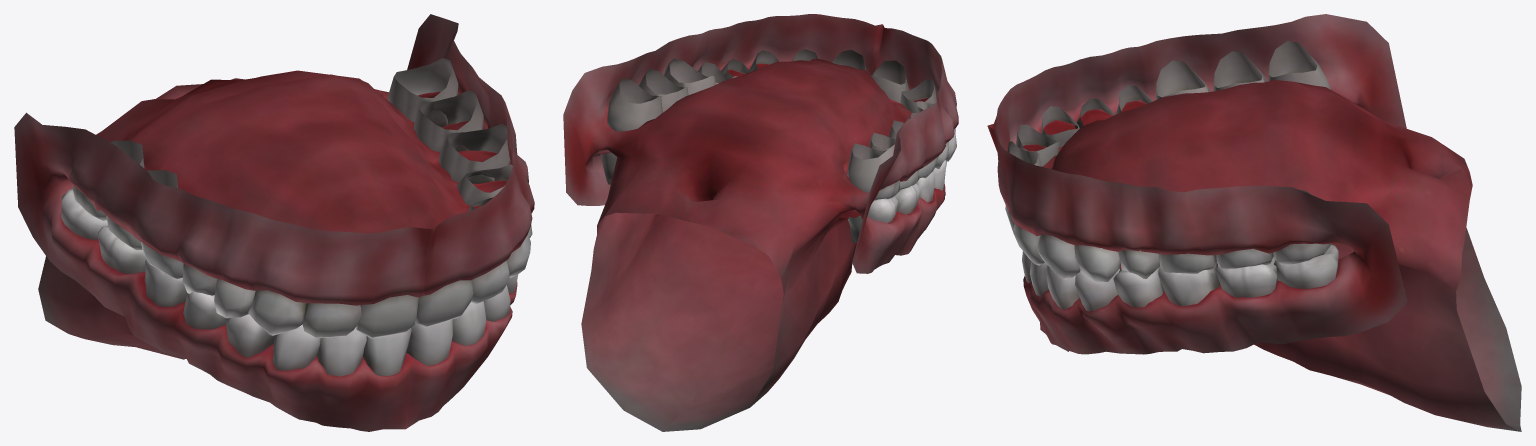
The model's file is teeth.gltf.
3 renders of one model, left to right at view 1: azimuth 30°, elevation 25°; view 2: azimuth 150°, elevation 25°; view 3: azimuth 270°, elevation 25°, orthographic. The views are drawn at different scales.
Visible parts, largest first — view 1: teeth; view 2: teeth; view 3: teeth.
Part boxes in pixels (<box>): teeth: <box>14,14,534,431</box>; teeth: <box>563,14,958,431</box>; teeth: <box>987,14,1521,431</box>.
Size of the model in its own units: 0.0595 by 0.0475 by 0.0719.
Materials: 1 (1 with a texture image).
